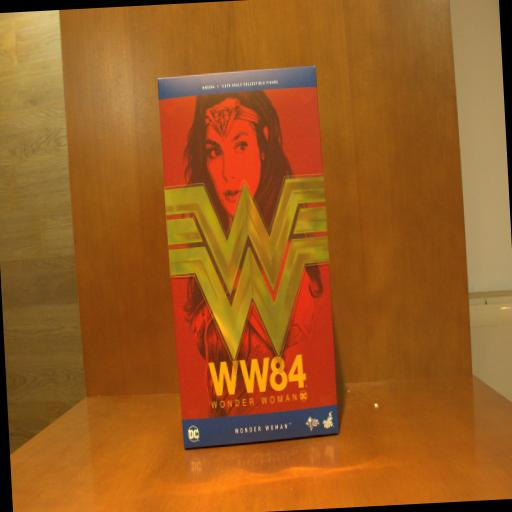WonderWoman: (154, 64, 344, 452)
